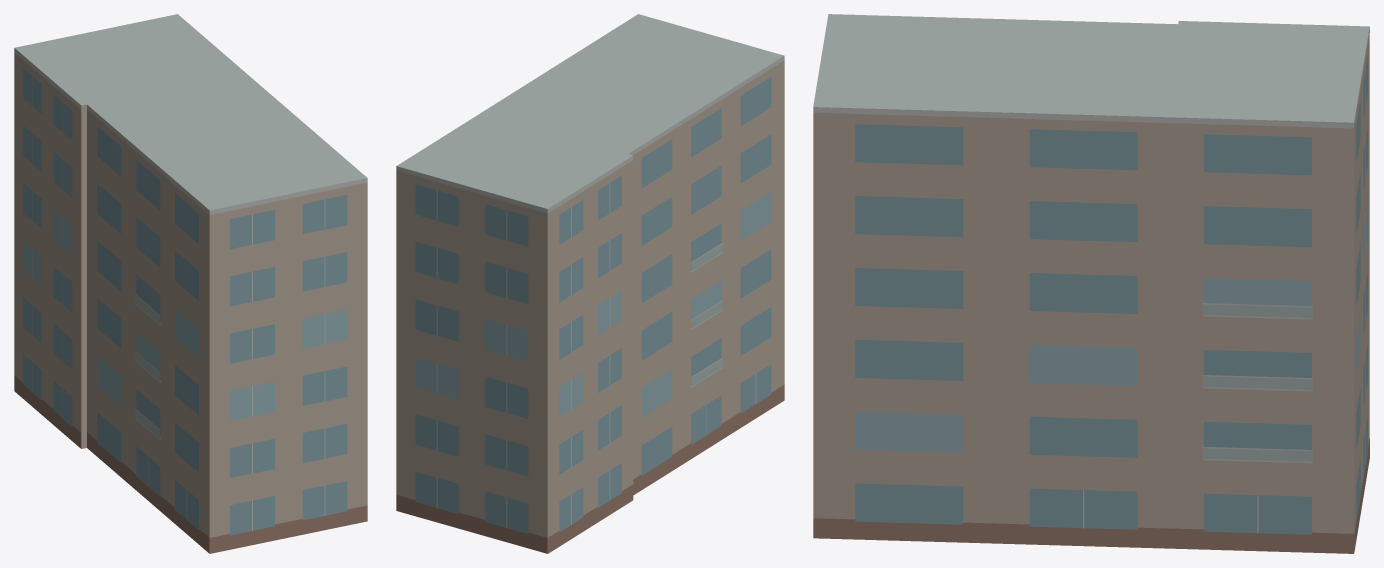
The model's file is survey-upis-32653957.glb.
The picture shows the model from 3 angles, left to right: view 1: azimuth 30°, elevation 25°; view 2: azimuth 150°, elevation 25°; view 3: azimuth 270°, elevation 25°; orthographic projection. The views are drawn at different scales.
Parts seen in each view (by area): view 1: survey-upis-32653957.tmp; view 2: survey-upis-32653957.tmp; view 3: survey-upis-32653957.tmp.
Boxes of the visible parts, left/top/right/bottom form: survey-upis-32653957.tmp: left=14, top=14, right=367, bottom=553; survey-upis-32653957.tmp: left=396, top=14, right=784, bottom=553; survey-upis-32653957.tmp: left=813, top=14, right=1369, bottom=553.
Bounding box in the file's own units: 9.9 × 18.3 × 21.42.
